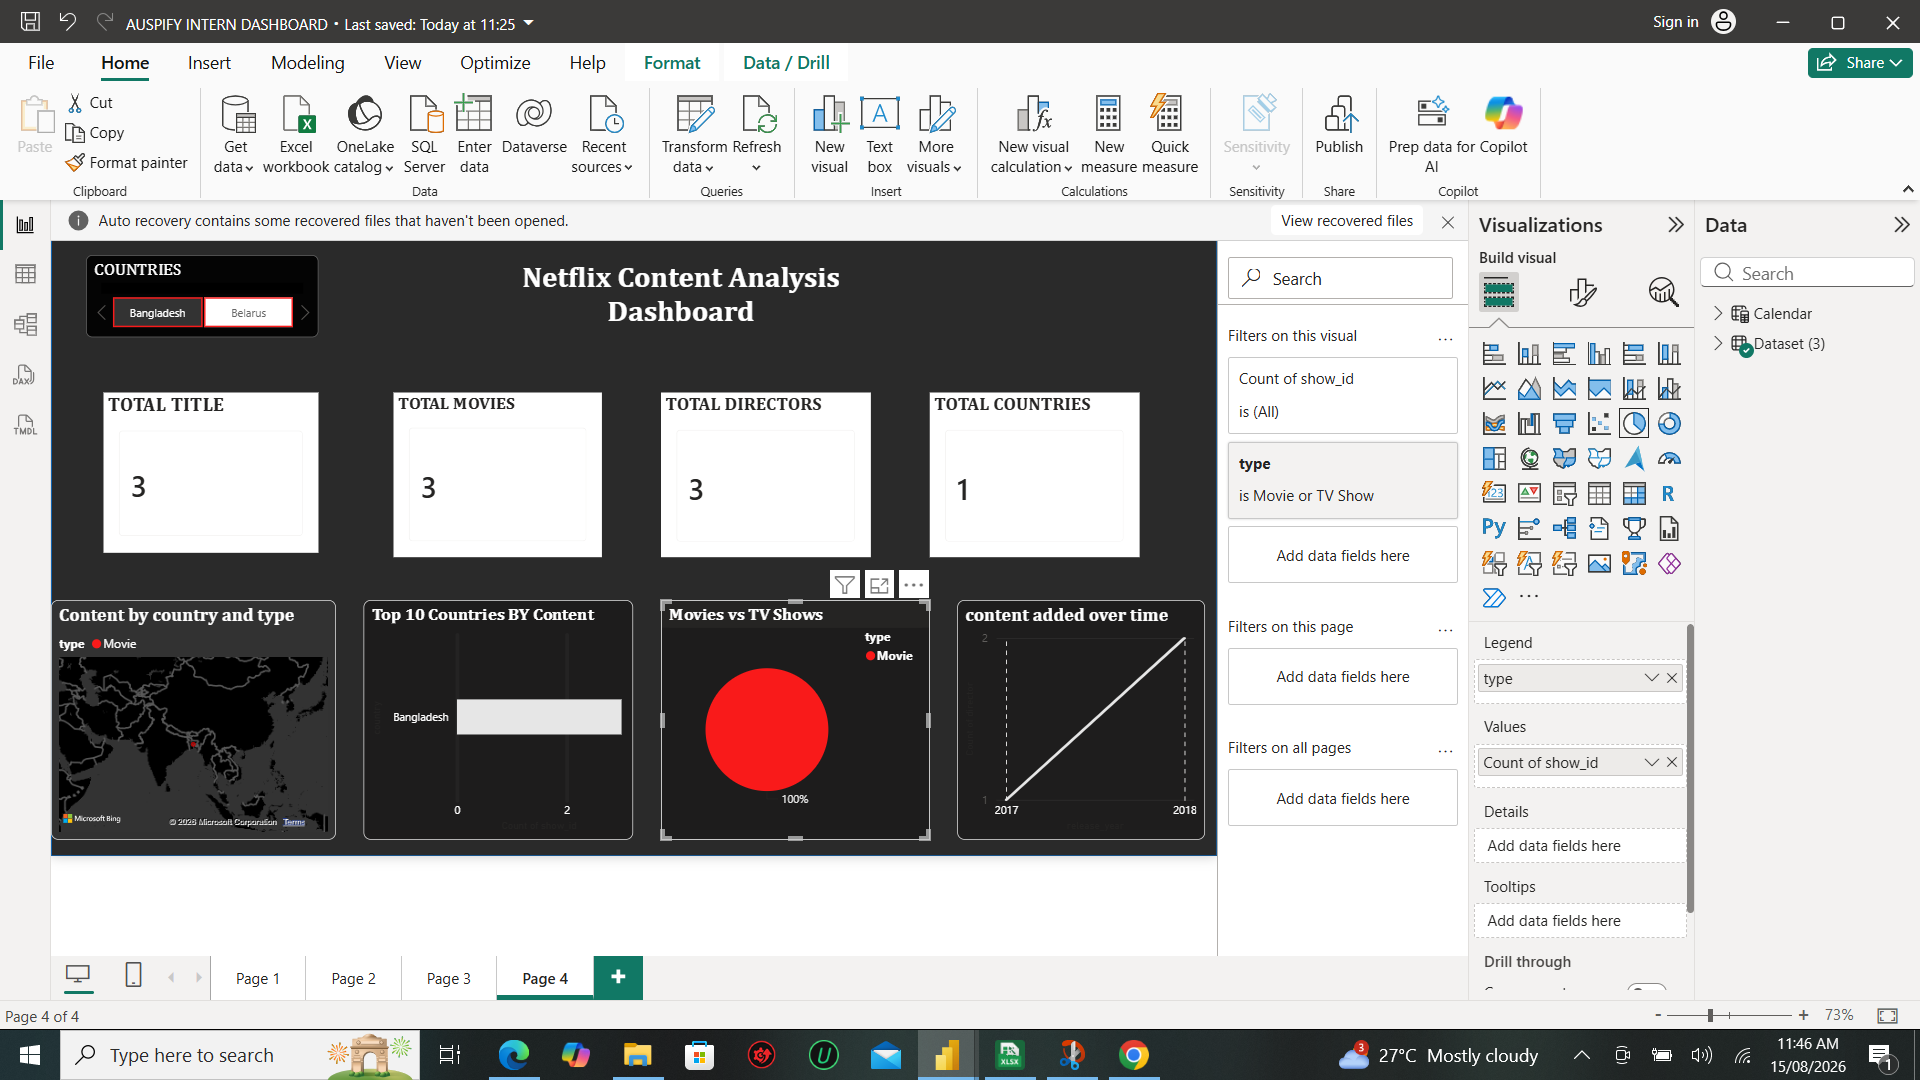

This screenshot's page, from the dashboard's own definition file:
{"tool":"powerbi","page":{"name":"Page 4","canvas":[1280,720],"ordinal":3},"visuals":[{"type":"shape","box":[0,0,1280.3,720.4],"z":0},{"type":"pieChart","title":"Movies vs TV Shows","fields":{"Y":["CountNonNull(Dataset (3).show_id)"],"Category":["Dataset (3).type"]},"box":[669.6,439.1,295,263.5],"z":1000},{"type":"map","title":"Content by country and type","fields":{"Category":["Dataset (3).country"],"Series":["Dataset (3).type"]},"box":[0,439.1,312.9,263.5],"z":3000},{"type":"clusteredBarChart","title":"Top 10 Countries BY Content","fields":{"Category":["Dataset (3).country"],"Y":["CountNonNull(Dataset (3).show_id)"]},"box":[343.1,439.1,296.4,263.5],"z":4000},{"type":"slicer","title":"COUNTRIES","fields":{"Values":["Dataset (3).country"]},"box":[38.4,60.4,255.2,90.6],"z":5000},{"type":"lineChart","title":"content added over time","fields":{"Category":["Dataset (3).release_year"],"Y":["CountNonNull(Dataset (3).director)"]},"box":[994.9,439.1,271.7,263.5],"z":6000},{"type":"textbox","box":[439.1,60.4,505,126.2],"z":6001},{"type":"cardVisual","title":"TOTAL MOVIES","fields":{"Data":["Count(Dataset (3).show_id)"]},"box":[376,211.3,229.2,181.1],"z":6002},{"type":"cardVisual","title":"TOTAL DIRECTORS","fields":{"Data":["Count(Dataset (3).director)"]},"box":[669.6,211.3,230.5,181.1],"z":6003},{"type":"cardVisual","title":"TOTAL COUNTRIES","fields":{"Data":["Count(Dataset (3).country)"]},"box":[964.7,211.3,230.5,181.1],"z":6004},{"type":"cardVisual","title":"TOTAL  TITLE","fields":{"Data":["Count(Dataset (3).show_id)"]},"box":[57.6,211.3,236,175.6],"z":6005}]}

Visuals, with their boxes on the page's 1280x720 design canvas (x1, y1, x2, y2). These are canvas units, not pixel positions in the 1920x1080 screenshot, which may show the page scaled, cropped or inside an application window:
shape: 0/0/1280/720
"Movies vs TV Shows" pieChart: 670/439/965/703
"Content by country and type" map: 0/439/313/703
"Top 10 Countries BY Content" clusteredBarChart: 343/439/640/703
"COUNTRIES" slicer: 38/60/294/151
"content added over time" lineChart: 995/439/1267/703
textbox: 439/60/944/187
"TOTAL MOVIES" cardVisual: 376/211/605/392
"TOTAL DIRECTORS" cardVisual: 670/211/900/392
"TOTAL COUNTRIES" cardVisual: 965/211/1195/392
"TOTAL  TITLE" cardVisual: 58/211/294/387
